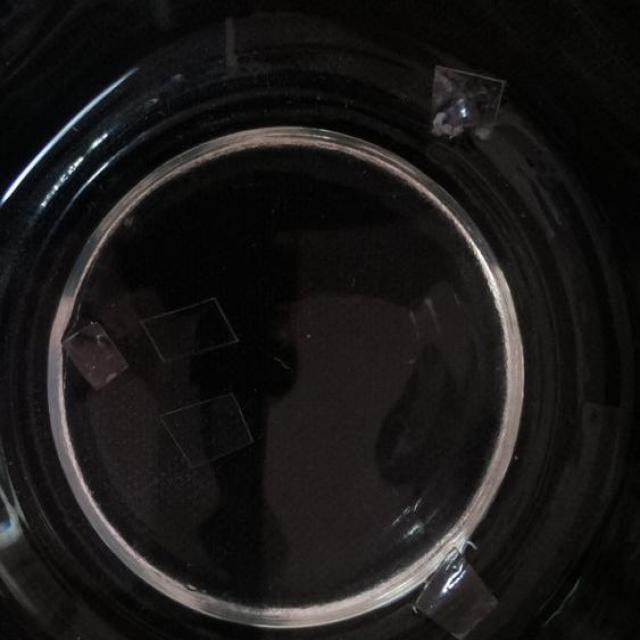fiber: (417, 540, 492, 640), (157, 391, 253, 468), (139, 302, 237, 362), (426, 66, 504, 140), (544, 575, 622, 640), (64, 324, 130, 391), (411, 290, 470, 346), (0, 472, 20, 544)
